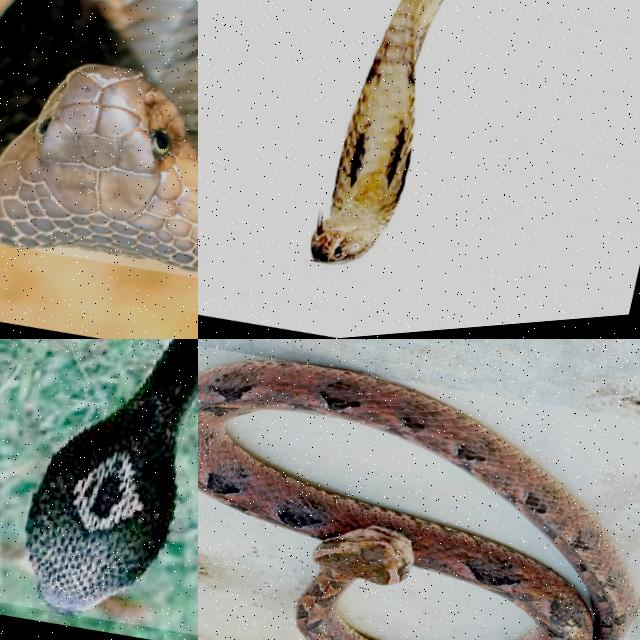Calloselasma rhodostoma: (198, 360, 636, 639)
Naja kaouthia: (25, 339, 197, 612), (306, 0, 437, 262)
Ophiophagus hannah: (0, 0, 197, 270)
